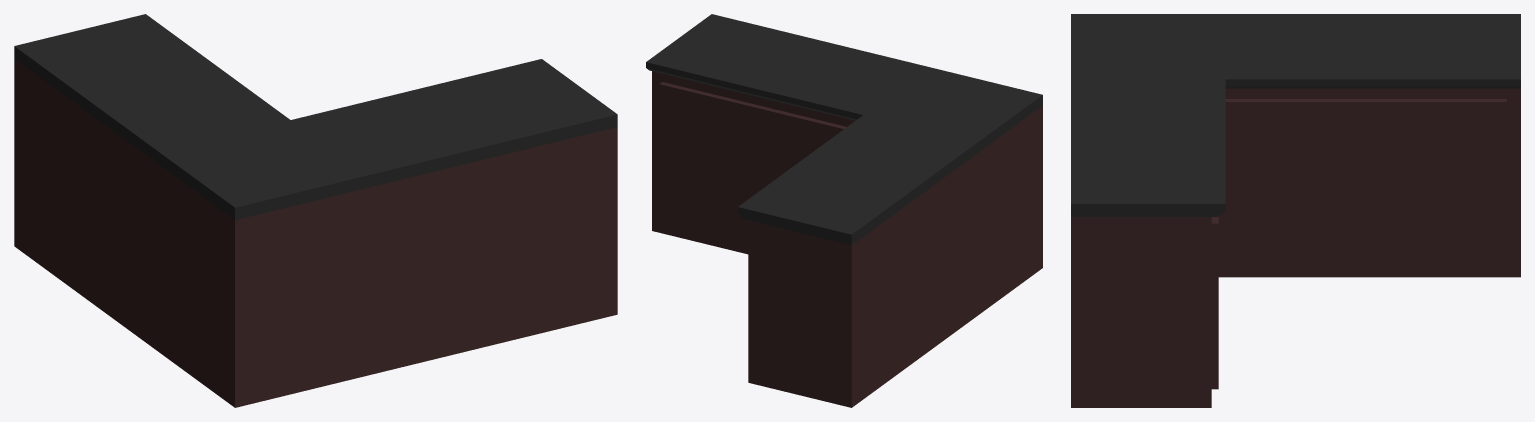
File: Corner Counter.fbx
The picture shows the model from 3 angles, left to right: view 1: azimuth 30°, elevation 25°; view 2: azimuth 150°, elevation 25°; view 3: azimuth 270°, elevation 25°; orthographic projection. The views are drawn at different scales.
Parts seen in each view (by area): view 1: Counter, Counter.002, CounterTop.002, Counter.001, CounterTop.001; view 2: Counter.001, CounterTop.002, CounterFront.001, CounterTop.001, Counter.002, Counter; view 3: CounterFront.002, CounterTop.002, Counter, CounterTop.001, Counter.001, CounterFront.001.
Part boxes in pixels (box(x1,y1,x2,y2)): Counter: box(354, 127, 617, 378); Counter.002: box(166, 170, 354, 407); CounterTop.002: box(14, 14, 354, 220); Counter.001: box(14, 59, 165, 356); CounterTop.001: box(279, 59, 617, 190); Counter.001: box(748, 149, 983, 407); CounterTop.002: box(738, 69, 1042, 245); CounterFront.001: box(659, 82, 846, 246); CounterTop.001: box(646, 14, 938, 120); Counter.002: box(983, 106, 1042, 311); Counter: box(652, 71, 855, 254); CounterFront.002: box(1225, 99, 1506, 267); CounterTop.002: box(1071, 14, 1520, 88); Counter: box(1071, 217, 1211, 407); CounterTop.001: box(1071, 73, 1225, 216); Counter.001: box(1218, 88, 1520, 277); CounterFront.001: box(1211, 216, 1218, 389).
Size of the model in its own units: 320 by 160 by 320.
